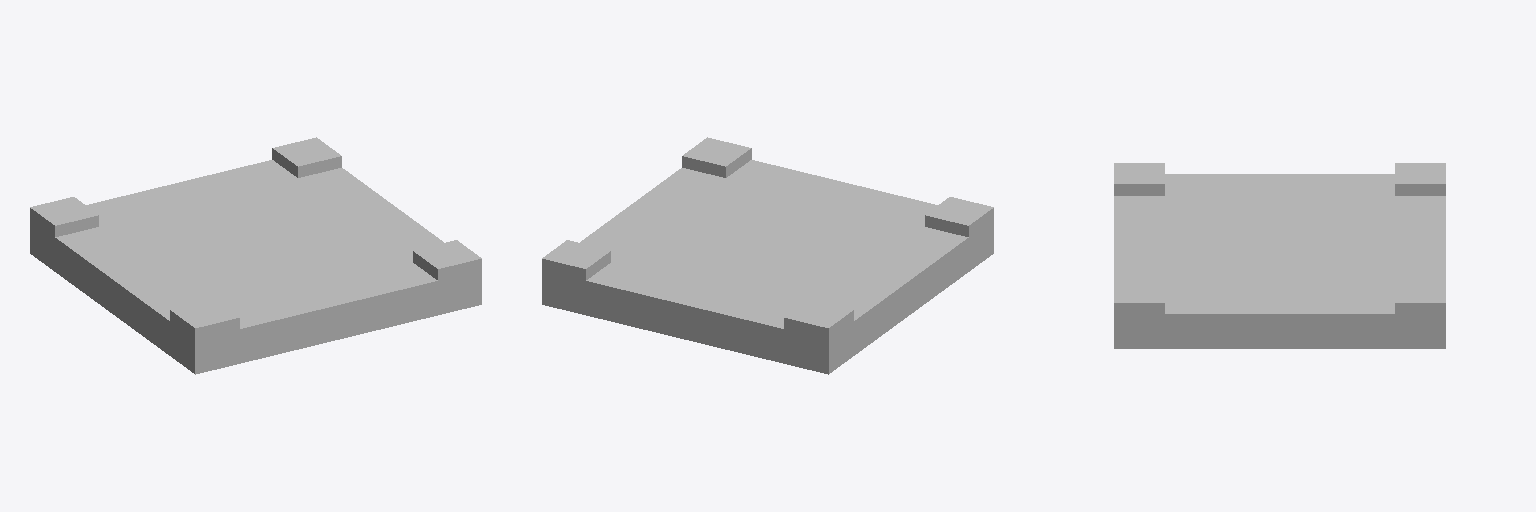
Rendered from tile_cross.obj.
3 views of the same model, side by side, from view 1: azimuth 30°, elevation 25°; view 2: azimuth 150°, elevation 25°; view 3: azimuth 270°, elevation 25° (orthographic).
Parts seen in each view (by area): view 1: tile_cross; view 2: tile_cross; view 3: tile_cross.
Part boxes in pixels (bbox=[...]): tile_cross: bbox=[30, 137, 481, 374]; tile_cross: bbox=[542, 137, 993, 374]; tile_cross: bbox=[1114, 163, 1445, 348].
Bounding box in the file's own units: 6.5 × 1 × 6.5.